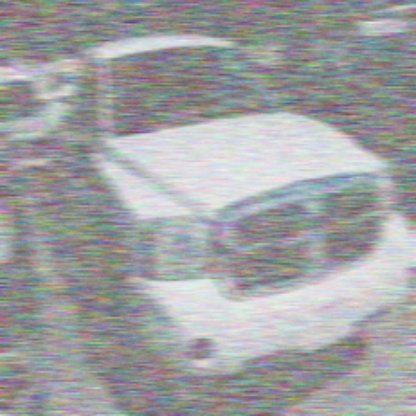Vehicle: (57, 35, 414, 379)
